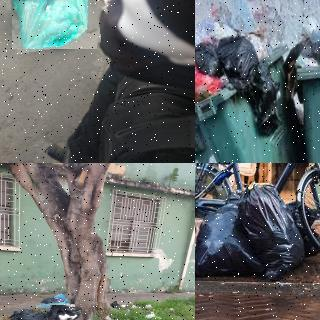Garbage: (238, 180, 309, 278), (195, 200, 261, 275), (9, 0, 99, 51), (217, 37, 260, 82), (195, 42, 225, 77), (195, 72, 222, 103), (46, 304, 82, 320), (11, 309, 47, 320)
